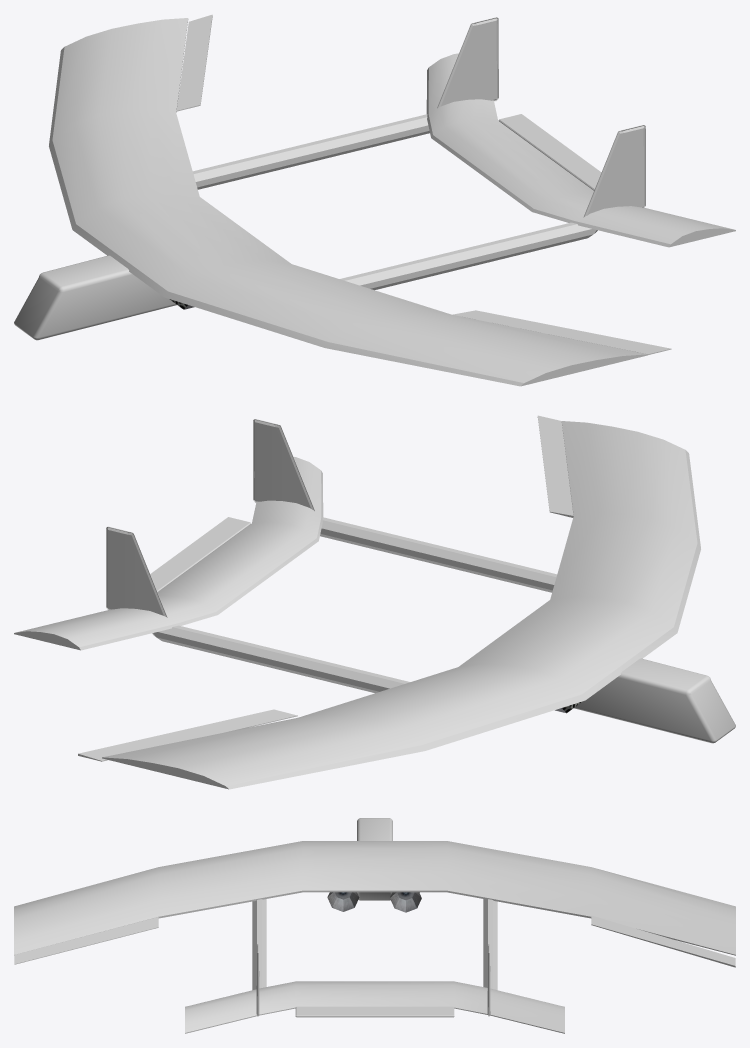
3 renders of one model, top to bottom at view 1: azimuth 30°, elevation 25°; view 2: azimuth 150°, elevation 25°; view 3: azimuth 270°, elevation 25°, orthographic. The views are drawn at different scales.
Visible parts, largest first — view 1: Wing, Stabilizer, Fuselage, BeamR, BeamL, KeelR, KeelL, Elevator, AilR, AilL; view 2: Wing, Stabilizer, Fuselage, BeamL, BeamR, KeelL, KeelR, AilR, AilL, Elevator; view 3: Wing, Stabilizer, Elevator, AilL, AilR, BeamR, BeamL, Fuselage, ThrusterR, ThrusterL.
Part boxes in pixels (<box>): Wing: <box>49,18,647,386</box>; Stabilizer: <box>426,53,735,247</box>; Fuselage: <box>14,255,176,340</box>; BeamR: <box>192,114,429,189</box>; BeamL: <box>339,222,597,290</box>; KeelR: <box>437,17,498,108</box>; KeelL: <box>583,125,645,217</box>; Elevator: <box>498,114,601,190</box>; AilR: <box>176,14,212,111</box>; AilL: <box>453,310,671,354</box>; Wing: <box>102,421,700,789</box>; Stabilizer: <box>14,456,323,650</box>; Fuselage: <box>574,658,735,743</box>; BeamL: <box>320,517,557,592</box>; BeamR: <box>152,625,410,693</box>; KeelL: <box>253,419,314,510</box>; KeelR: <box>106,526,167,617</box>; AilR: <box>78,709,297,761</box>; AilL: <box>537,415,573,517</box>; Elevator: <box>150,517,251,592</box>; Wing: <box>14,841,735,955</box>; Stabilizer: <box>185,981,564,1033</box>; Elevator: <box>295,1006,454,1017</box>; AilL: <box>14,917,158,964</box>; AilR: <box>591,915,735,967</box>; BeamR: <box>483,899,497,990</box>; BeamL: <box>252,899,266,990</box>; Fuselage: <box>357,818,392,900</box>; ThrusterR: <box>390,892,421,912</box>; ThrusterL: <box>327,892,359,911</box>.
Bounding box in the file's own units: 146 × 30.84 × 197.
